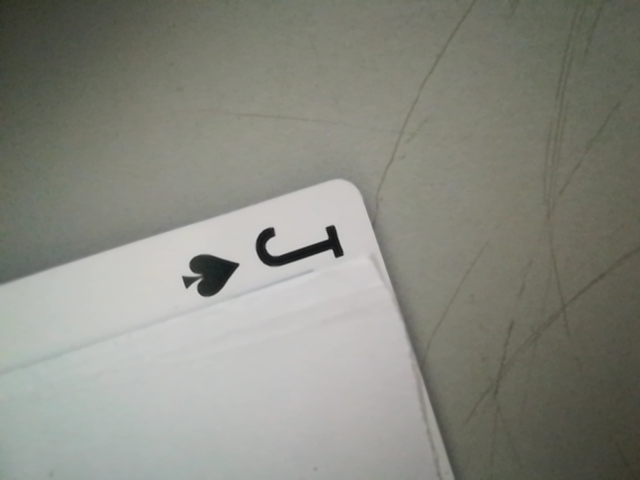ht j: (146, 207, 366, 297)
